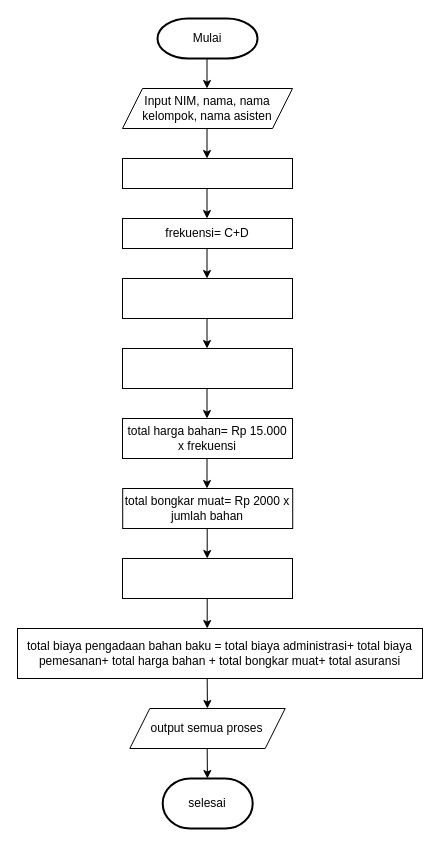
Some shapes in this 440 by 846 pixel diagram are drawn without their labels. Here are the shapes that lost their labels. From the top down, the centre of each, then its label:
[207,173]: jumlah bahan baku= A+B
[207,298]: total biaya pemesanan pokok= Rp 50.000 x jumlah bahan
[207,368]: total biaya administrasi=Rp 10.000 x jumlah bahan
[207,578]: total asuransi= 5% x total harga bahan baku
